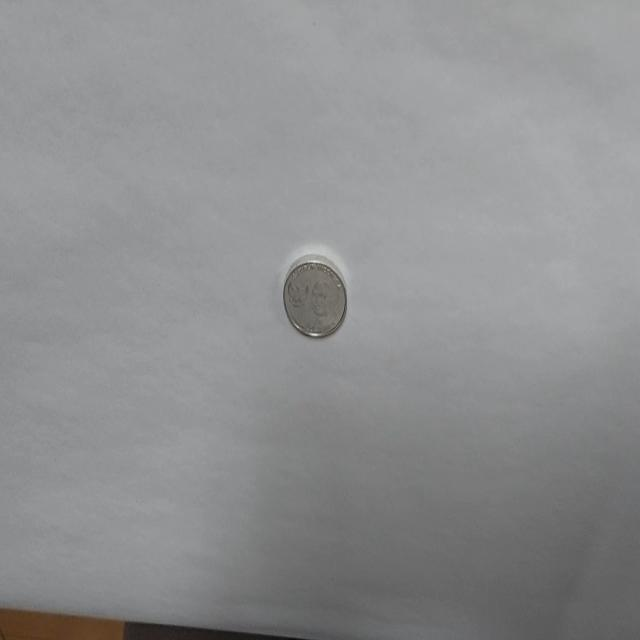lima ratus rupiah: (282, 254, 347, 339)
